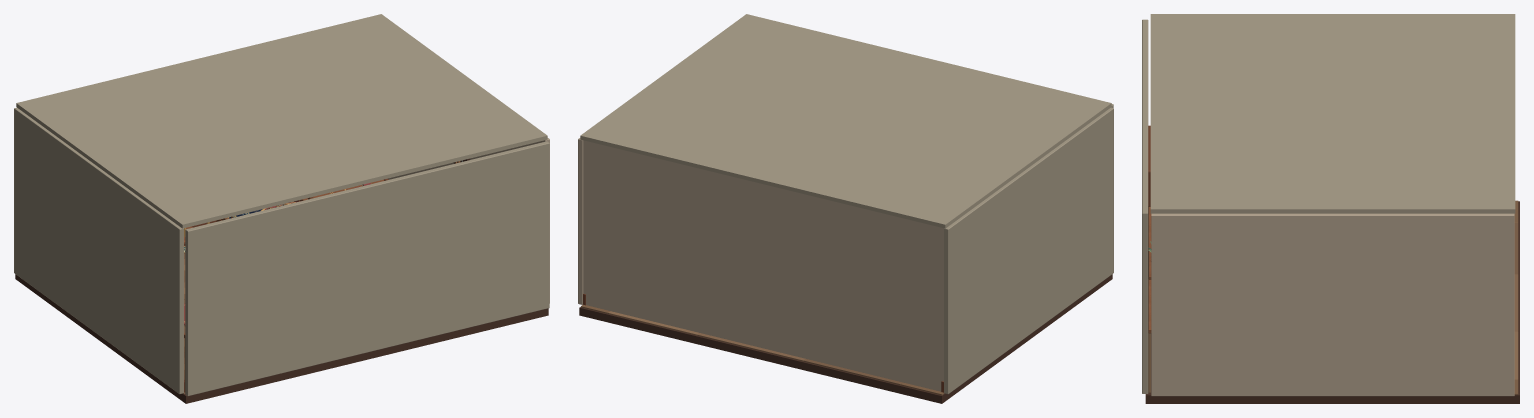
The model's file is workshop.glb.
3 views of the same model, side by side, from view 1: azimuth 30°, elevation 25°; view 2: azimuth 150°, elevation 25°; view 3: azimuth 270°, elevation 25° (orthographic). The views are drawn at different scales.
Visible parts, largest first — view 1: Room__wallShade, Room__woodDark, Room__wall; view 2: Room__wallShade, Room__wall, Room__woodDark; view 3: Room__wallShade, Room__wall, Room__woodDark, Room__woodGrain, Room__floorB.
Boxes of the visible parts, x1,y1,x2,y2 form: Room__wallShade: [14, 14, 549, 396]; Room__woodDark: [15, 158, 548, 403]; Room__wall: [388, 138, 549, 303]; Room__wallShade: [580, 14, 1113, 394]; Room__wall: [578, 138, 943, 391]; Room__woodDark: [579, 274, 1112, 403]; Room__wallShade: [1142, 14, 1515, 393]; Room__wall: [1151, 213, 1514, 396]; Room__woodDark: [1145, 201, 1519, 403]; Room__woodGrain: [1148, 206, 1151, 333]; Room__floorB: [1148, 331, 1518, 392].
Bounding box in the file's own units: 6.95 × 3.19 × 5.6.
61 materials, 18 textured.
